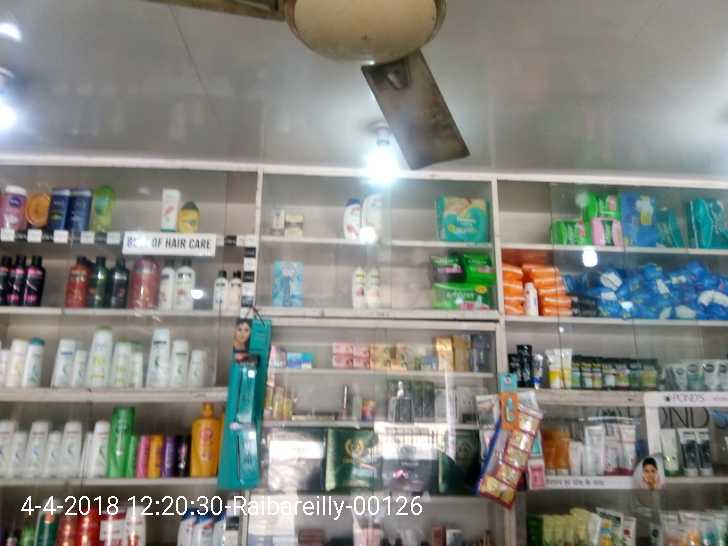venus: (275, 260, 300, 304)
